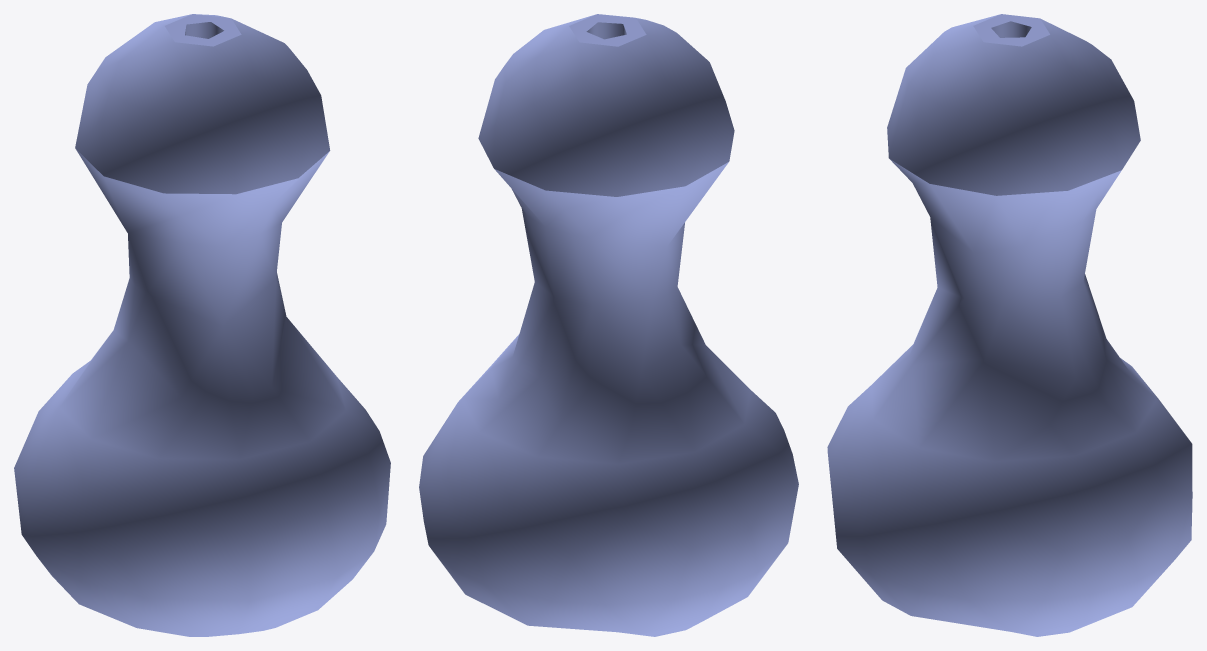
Rendered from Copie de Lentille_Poire^Copie de Assemb_balancier_Horloge Comtoise Verge - Sonnerie.obj.
The picture shows the model from 3 angles, left to right: view 1: azimuth 30°, elevation 25°; view 2: azimuth 150°, elevation 25°; view 3: azimuth 270°, elevation 25°; orthographic projection.
Visible parts, largest first — view 1: Face_1, Face_3, Face_5, Face_6; view 2: Face_1, Face_3, Face_5, Face_6; view 3: Face_1, Face_3, Face_5, Face_6.
Part boxes in pixels (x1=…): Face_1: x1=14, y1=374, x2=390, y2=636; Face_3: x1=59, y1=148, x2=345, y2=459; Face_5: x1=75, y1=14, x2=330, y2=194; Face_6: x1=165, y1=14, x2=241, y2=46; Face_1: x1=419, y1=368, x2=798, y2=636; Face_3: x1=462, y1=162, x2=750, y2=464; Face_5: x1=478, y1=14, x2=734, y2=196; Face_6: x1=569, y1=14, x2=646, y2=46; Face_1: x1=827, y1=369, x2=1192, y2=636; Face_3: x1=871, y1=159, x2=1156, y2=461; Face_5: x1=887, y1=14, x2=1140, y2=195; Face_6: x1=973, y1=14, x2=1049, y2=46.
Bounding box in the file's own units: 0.03 × 0.051 × 0.0297.
